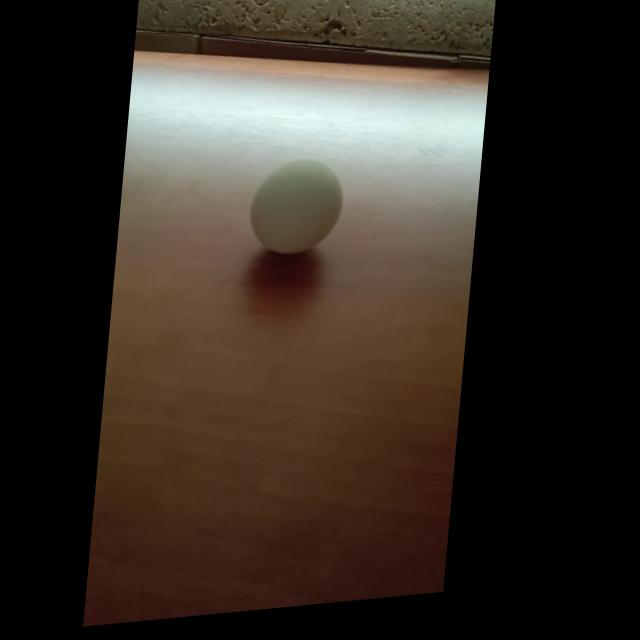white ball: (245, 154, 347, 259)
